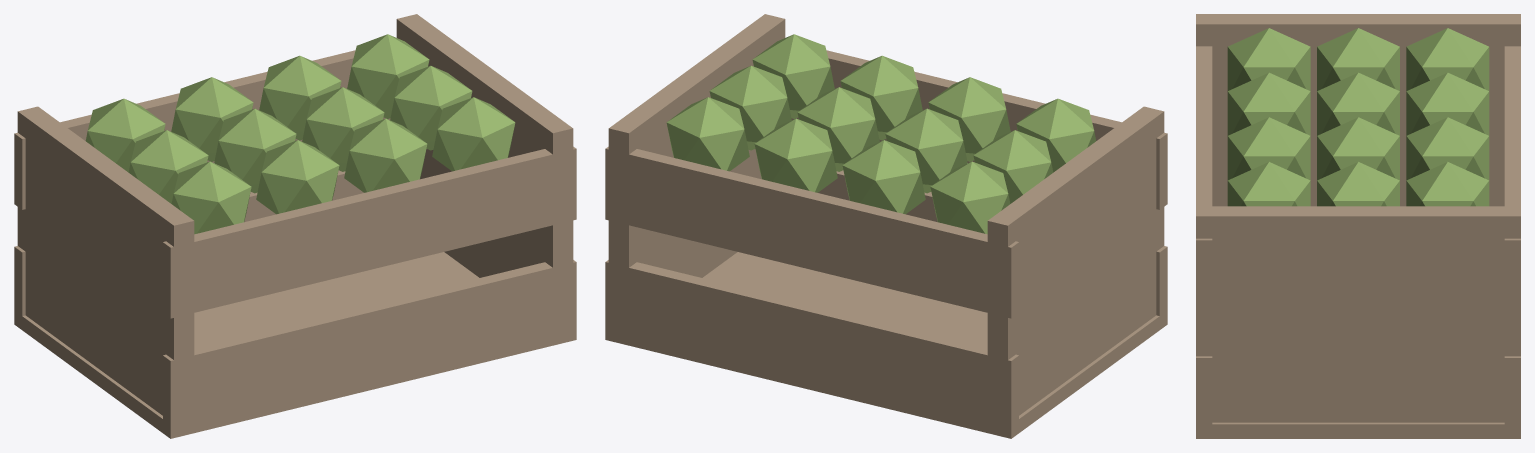
Rendered from crate.glb.
The picture shows the model from 3 angles, left to right: view 1: azimuth 30°, elevation 25°; view 2: azimuth 150°, elevation 25°; view 3: azimuth 270°, elevation 25°; orthographic projection. The views are drawn at different scales.
Visible parts, largest first — view 1: crate, crate_veg; view 2: crate, crate_veg; view 3: crate, crate_veg.
Part boxes in pixels (x1,y1,x2,y2): crate: (14,14,576,438); crate_veg: (85,34,515,234); crate: (605,14,1167,438); crate_veg: (666,34,1096,234); crate: (1196,14,1520,438); crate_veg: (1227,28,1489,206).
Size of the model in its own units: 0.6 by 0.33 by 0.4.
